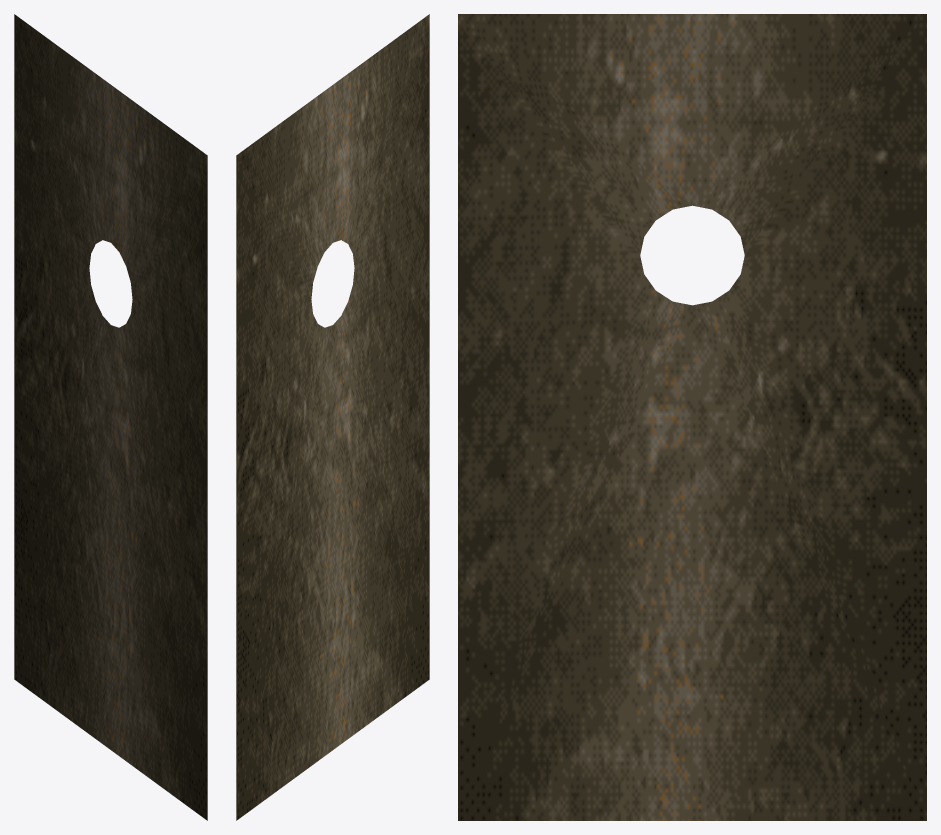
Rendered from Peephole 1.fbx.
The picture shows the model from 3 angles, left to right: view 1: azimuth 30°, elevation 25°; view 2: azimuth 150°, elevation 25°; view 3: azimuth 270°, elevation 25°; orthographic projection. The views are drawn at different scales.
Parts seen in each view (by area): view 1: Plane.115; view 2: Plane.115; view 3: Plane.115.
Boxes of the visible parts, x1,y1,x2,y2 form: Plane.115: (14,14,207,820); Plane.115: (236,14,429,820); Plane.115: (458,14,926,820).
Bounding box in the file's own units: 8.22e-05 × 293 × 154.
